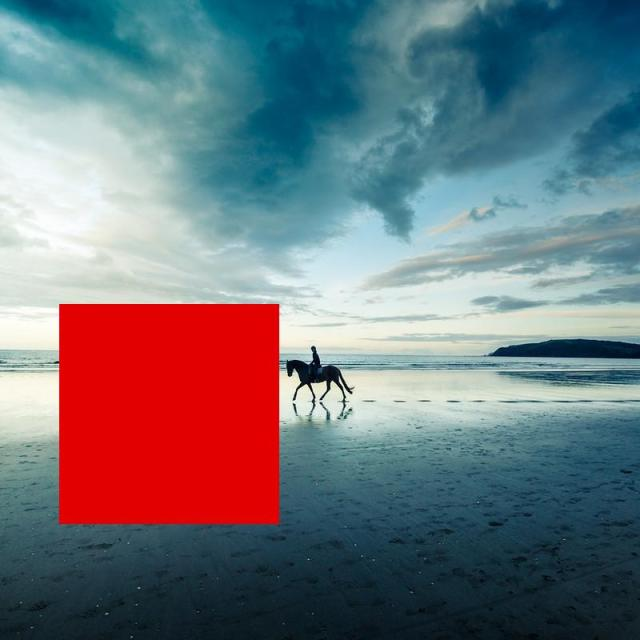RedSquare: (53, 298, 284, 530)
